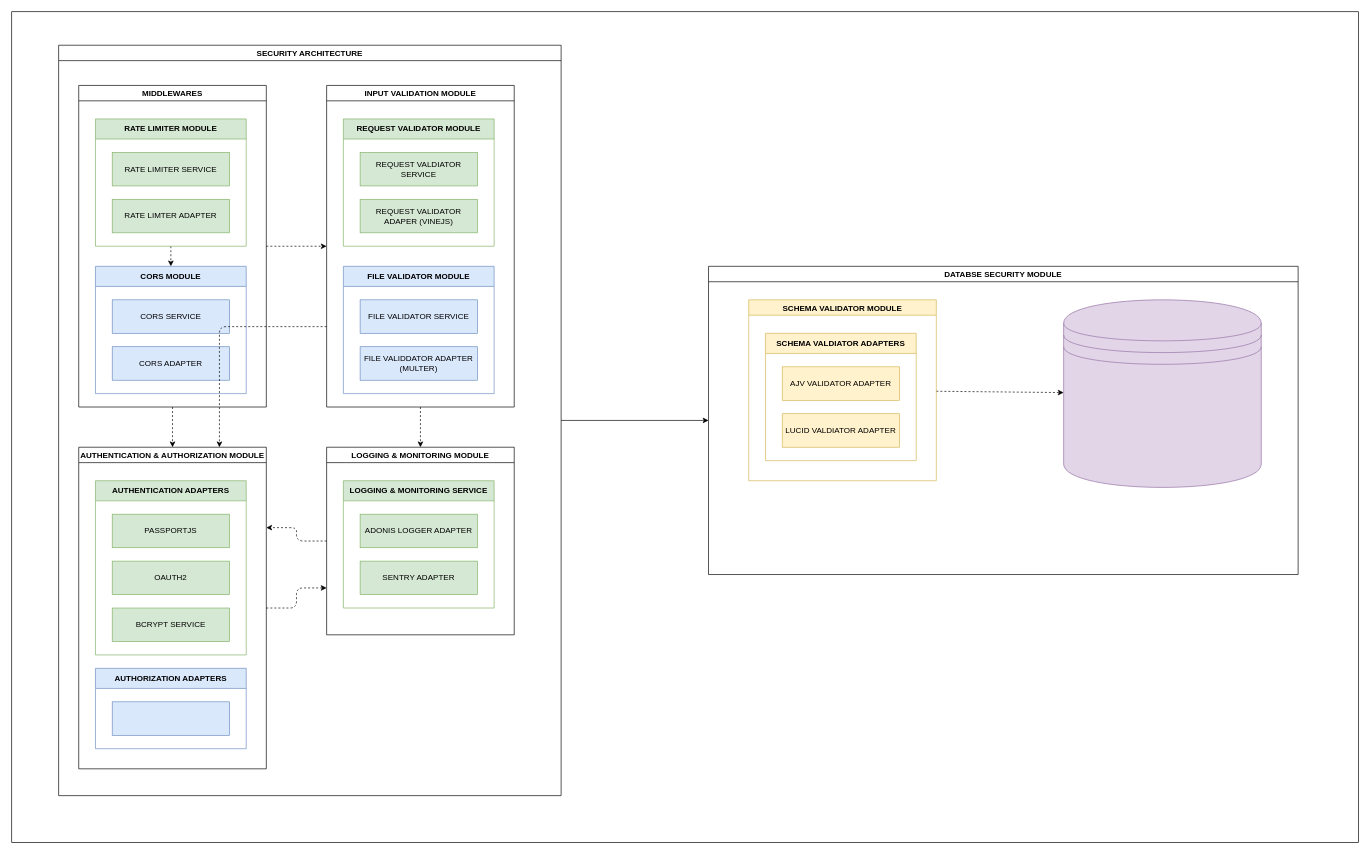
Image size: 1370x854. Some labels were removed from this diagram. Each missing label, with the centre of its shape:
"DATABASE" goes at (1162,393).
"PASSPORT, JWT SERVICE" goes at (170,718).
